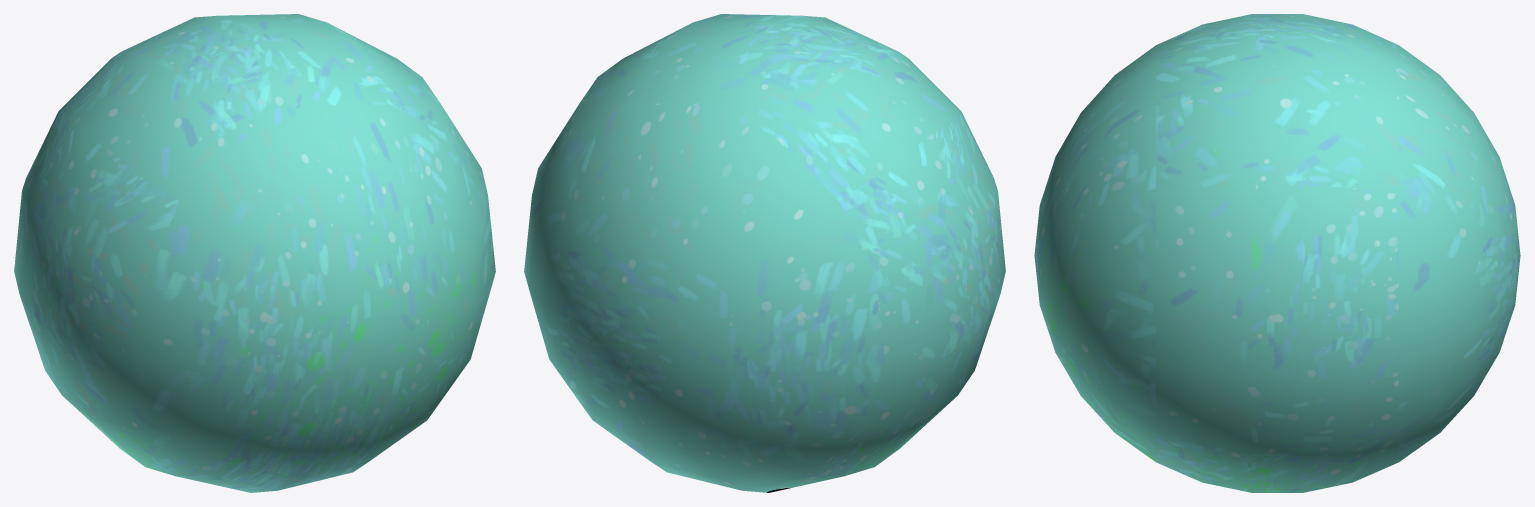
The model's file is player.fbx.
3 views of the same model, side by side, from view 1: azimuth 30°, elevation 25°; view 2: azimuth 150°, elevation 25°; view 3: azimuth 270°, elevation 25° (orthographic).
Parts seen in each view (by area): view 1: OBro; view 2: OBro; view 3: OBro.
Part boxes in pixels (bbox=[...]): OBro: bbox=[14, 14, 495, 492]; OBro: bbox=[524, 14, 1005, 492]; OBro: bbox=[1034, 14, 1520, 492].
Bounding box in the file's own units: 758 × 754 × 767.
1 material, 1 textured.
